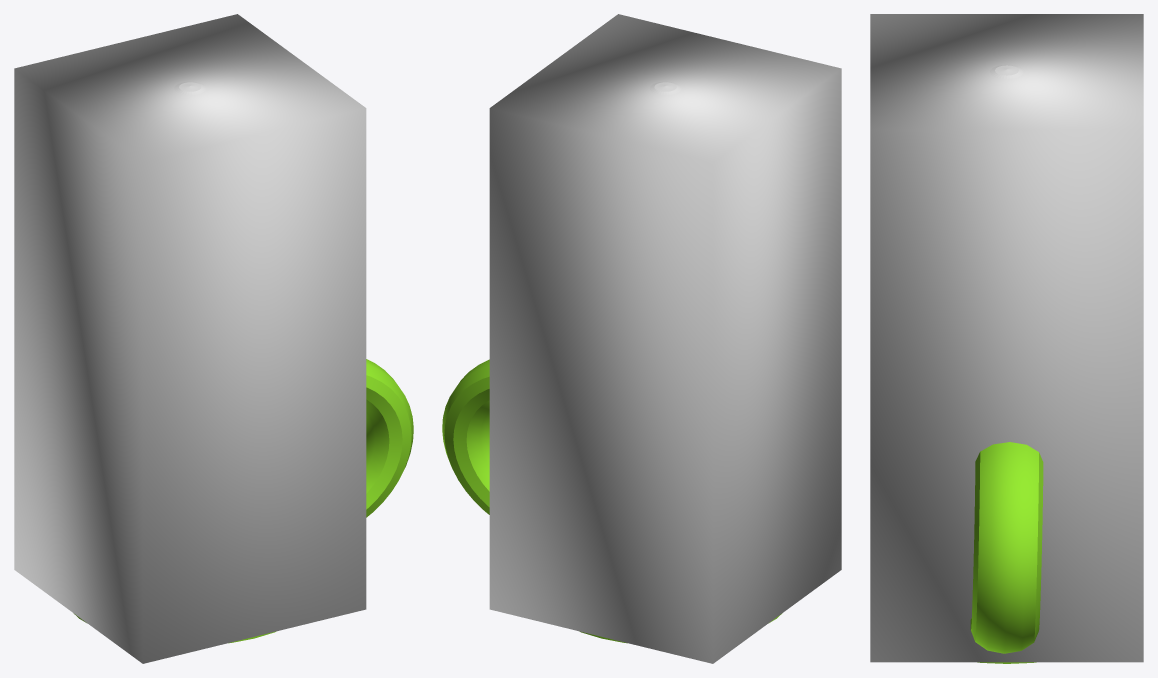
Rendered from Fluid Simulation.fbx.
3 renders of one model, left to right at view 1: azimuth 30°, elevation 25°; view 2: azimuth 150°, elevation 25°; view 3: azimuth 270°, elevation 25°, orthographic. The views are drawn at different scales.
Parts seen in each view (by area): view 1: Liquid Domain, Cylinder; view 2: Liquid Domain, Cylinder; view 3: Liquid Domain, Cylinder.
Part boxes in pixels (x1=…): Liquid Domain: x1=14, y1=14, x2=366, y2=663; Cylinder: x1=73, y1=359, x2=413, y2=643; Liquid Domain: x1=489, y1=14, x2=841, y2=663; Cylinder: x1=442, y1=359, x2=782, y2=643; Liquid Domain: x1=870, y1=14, x2=1143, y2=662; Cylinder: x1=970, y1=442, x2=1043, y2=663.
Size of what is drawn, in the model's own units: 298 by 436 by 201.
